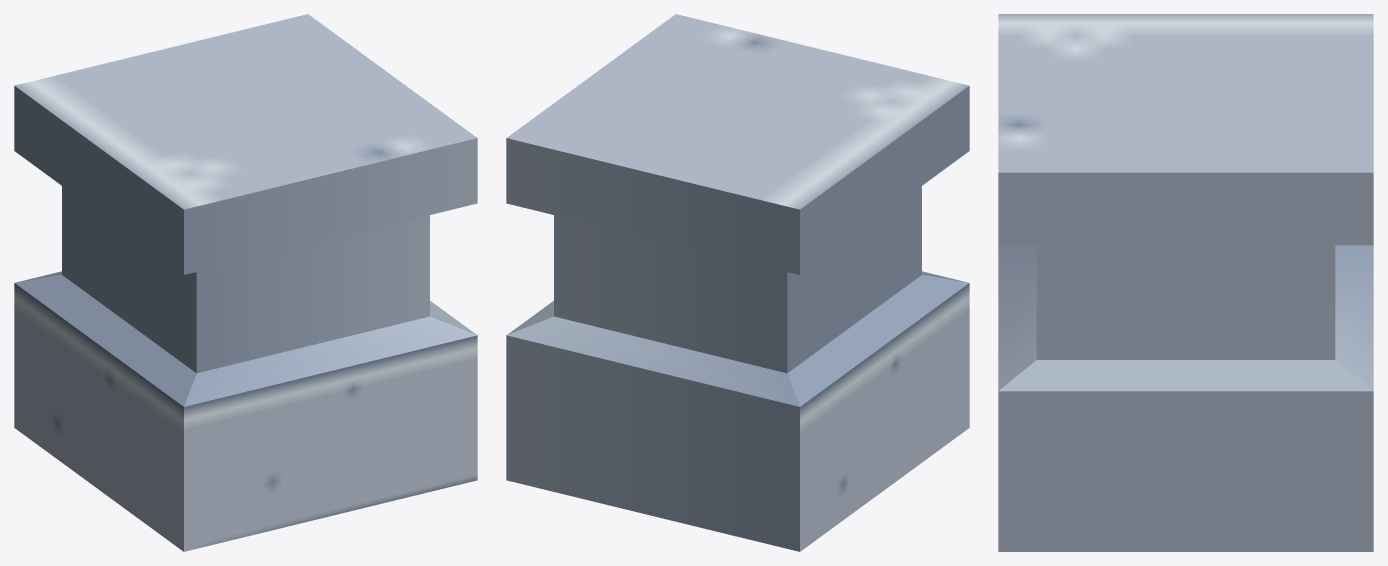
The model's file is ElevacaoMarmore.fbx.
3 views of the same model, side by side, from view 1: azimuth 30°, elevation 25°; view 2: azimuth 150°, elevation 25°; view 3: azimuth 270°, elevation 25° (orthographic). The views are drawn at different scales.
Visible parts, largest first — view 1: ElevacaoMarmore; view 2: ElevacaoMarmore; view 3: ElevacaoMarmore.
Part boxes in pixels (x1,y1,x2,y2): ElevacaoMarmore: [14, 14, 477, 551]; ElevacaoMarmore: [506, 14, 969, 551]; ElevacaoMarmore: [998, 14, 1373, 551].
Bounding box in the file's own units: 110 × 110 × 122.
